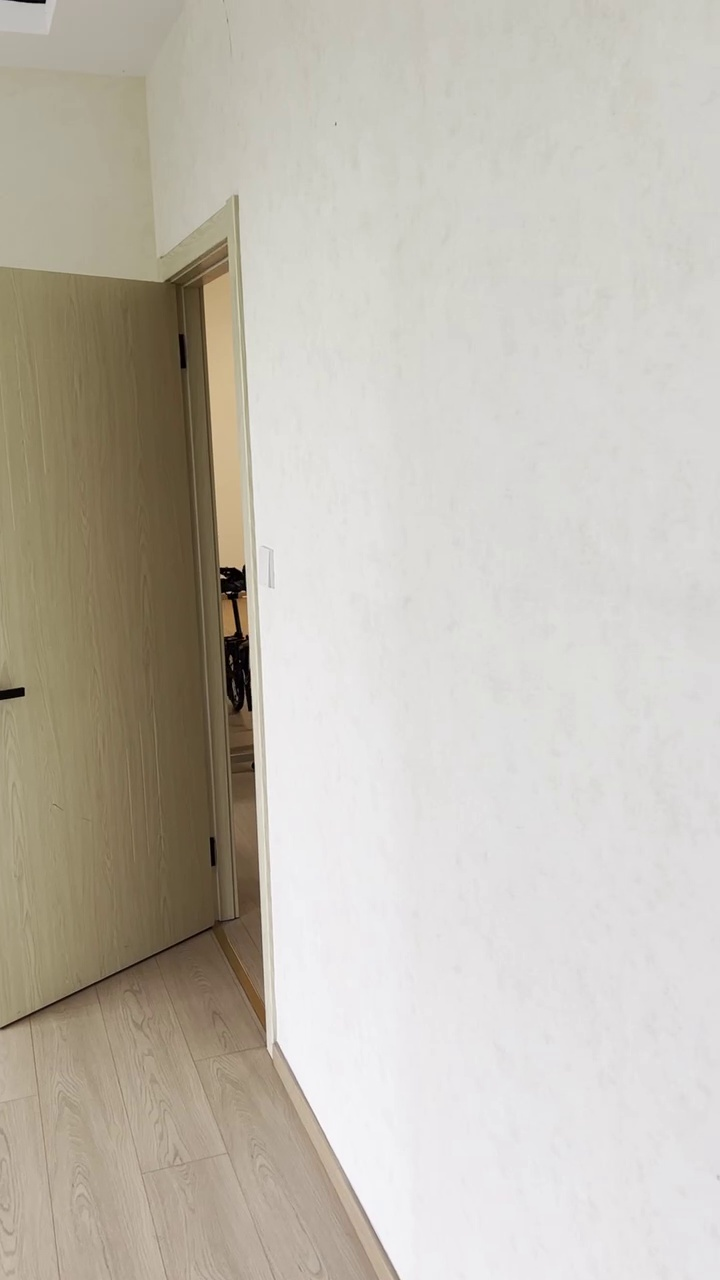button: (257, 545, 276, 591)
